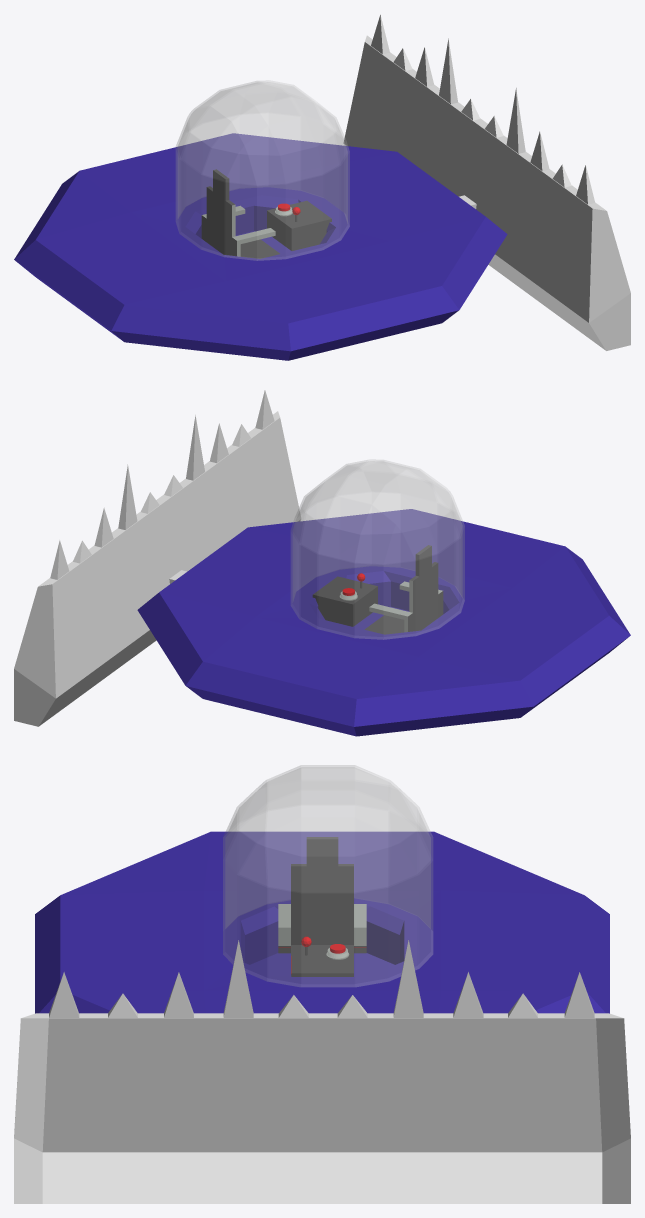
Rendered from Spaceship.glb.
The picture shows the model from 3 angles, top to bottom: view 1: azimuth 30°, elevation 25°; view 2: azimuth 150°, elevation 25°; view 3: azimuth 270°, elevation 25°; orthographic projection. The views are drawn at different scales.
Visible parts, largest first — view 1: UFO, Cube, Chair, Console; view 2: UFO, Cube, Chair, Console; view 3: Cube, UFO, Chair, Console.
Part boxes in pixels (x1,y1,x2,y2): UFO: (14, 80, 507, 360); Cube: (343, 14, 630, 350); Chair: (201, 169, 279, 258); Console: (267, 200, 331, 250); UFO: (137, 459, 630, 736); Cube: (14, 390, 301, 726); Chair: (364, 545, 443, 634); Console: (312, 573, 377, 626); Cube: (14, 940, 630, 1203); UFO: (35, 765, 609, 1013); Chair: (278, 837, 366, 974); Console: (291, 936, 353, 976).
Size of the model in its own units: 5.51 by 2.6 by 5.26.
3 materials, 1 textured.
